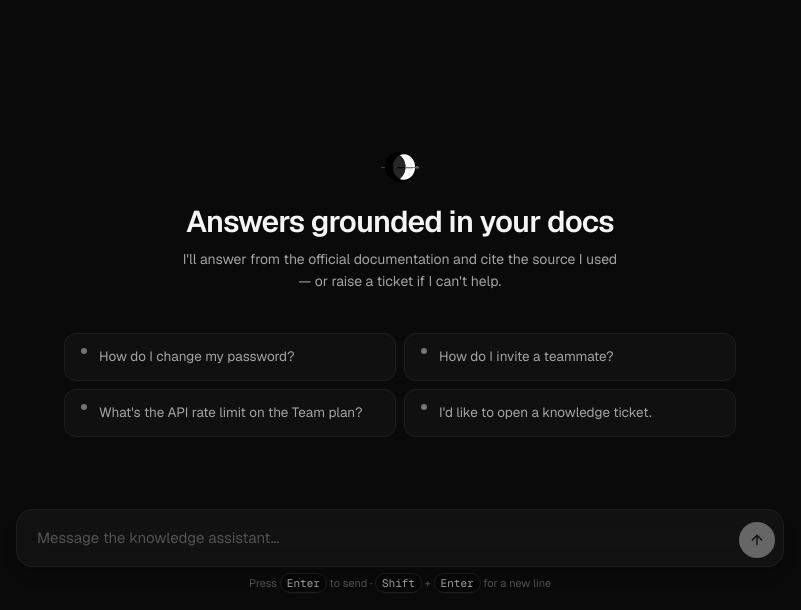
Test: ChatInterface with the real useChat hook › posts through DefaultChatTransport and renders the streamed answer
Type "What is the dental plan?" into the text box with test id "chat-input" at point(378, 538), box [25, 518, 731, 558]
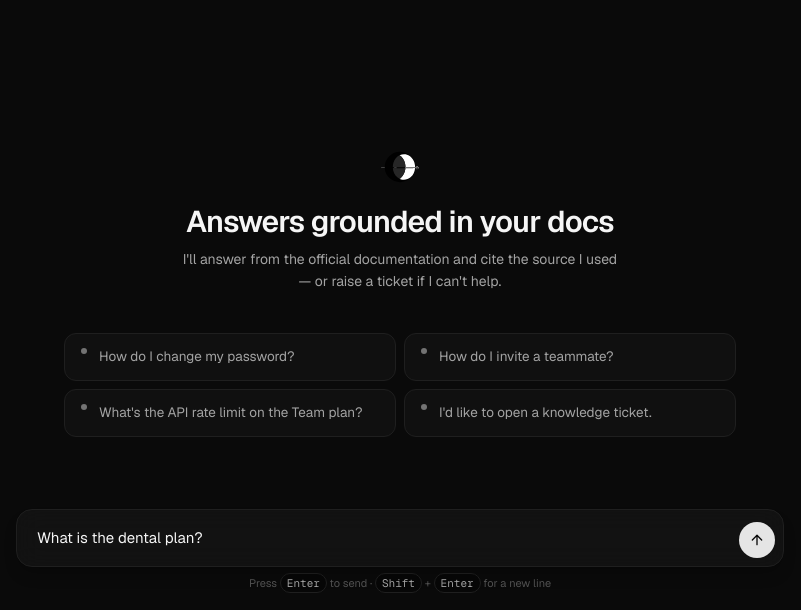
Click the button with test id "chat-send" at point(757, 540), box [739, 522, 775, 558]
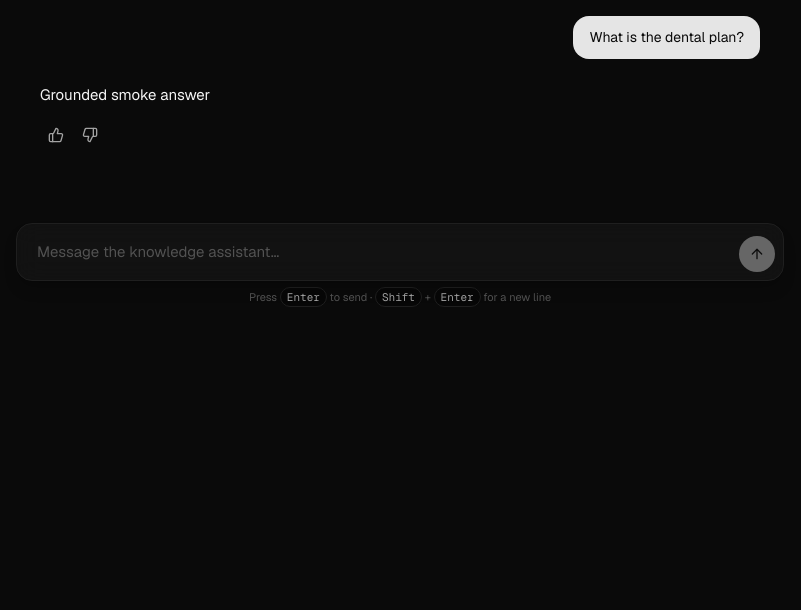
expect the text box with test id "chat-input" is enabled: met, box [25, 232, 731, 272]
expect the text "Grounded smoke answer" is shown: met, box [40, 85, 210, 104]
